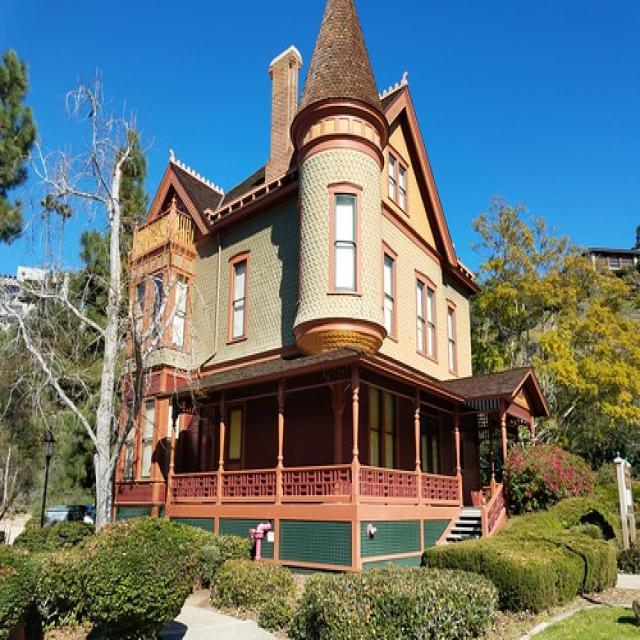building: (106, 8, 547, 583)
